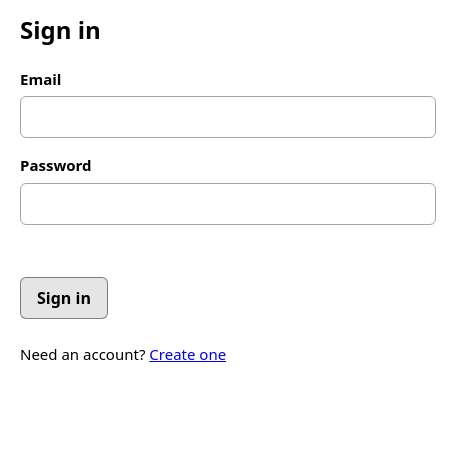
Test: LoginPage › shows a generic throttling message on 429
In the field labelled "Email": (228, 117) [20,96,436,138], type "user@example.com"
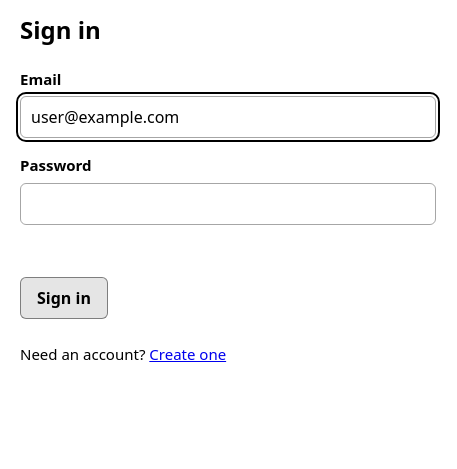
In the password field labelled "Password": (228, 204) [20,183,436,225], type "correct horse"
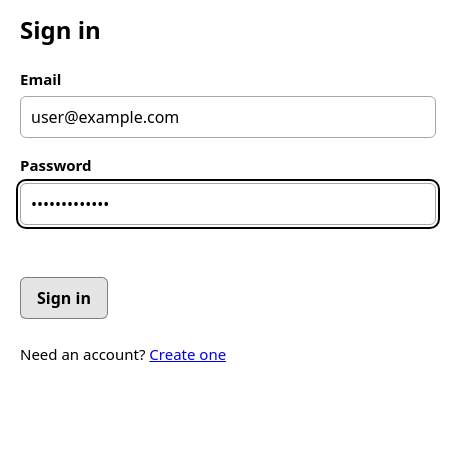
Click the button "Sign in": (64, 298) [20,277,108,319]
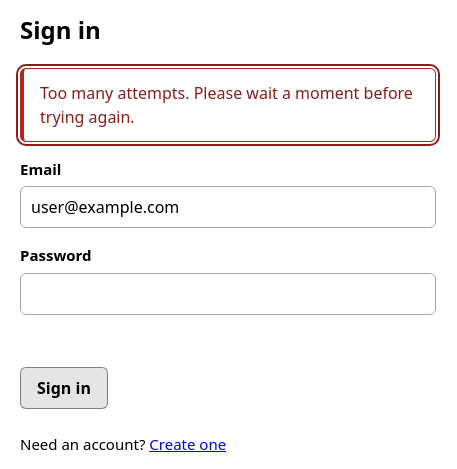
Expected: the message "Too many attempts. Please wait a moment before trying again." is shown, [20,68,436,142]
